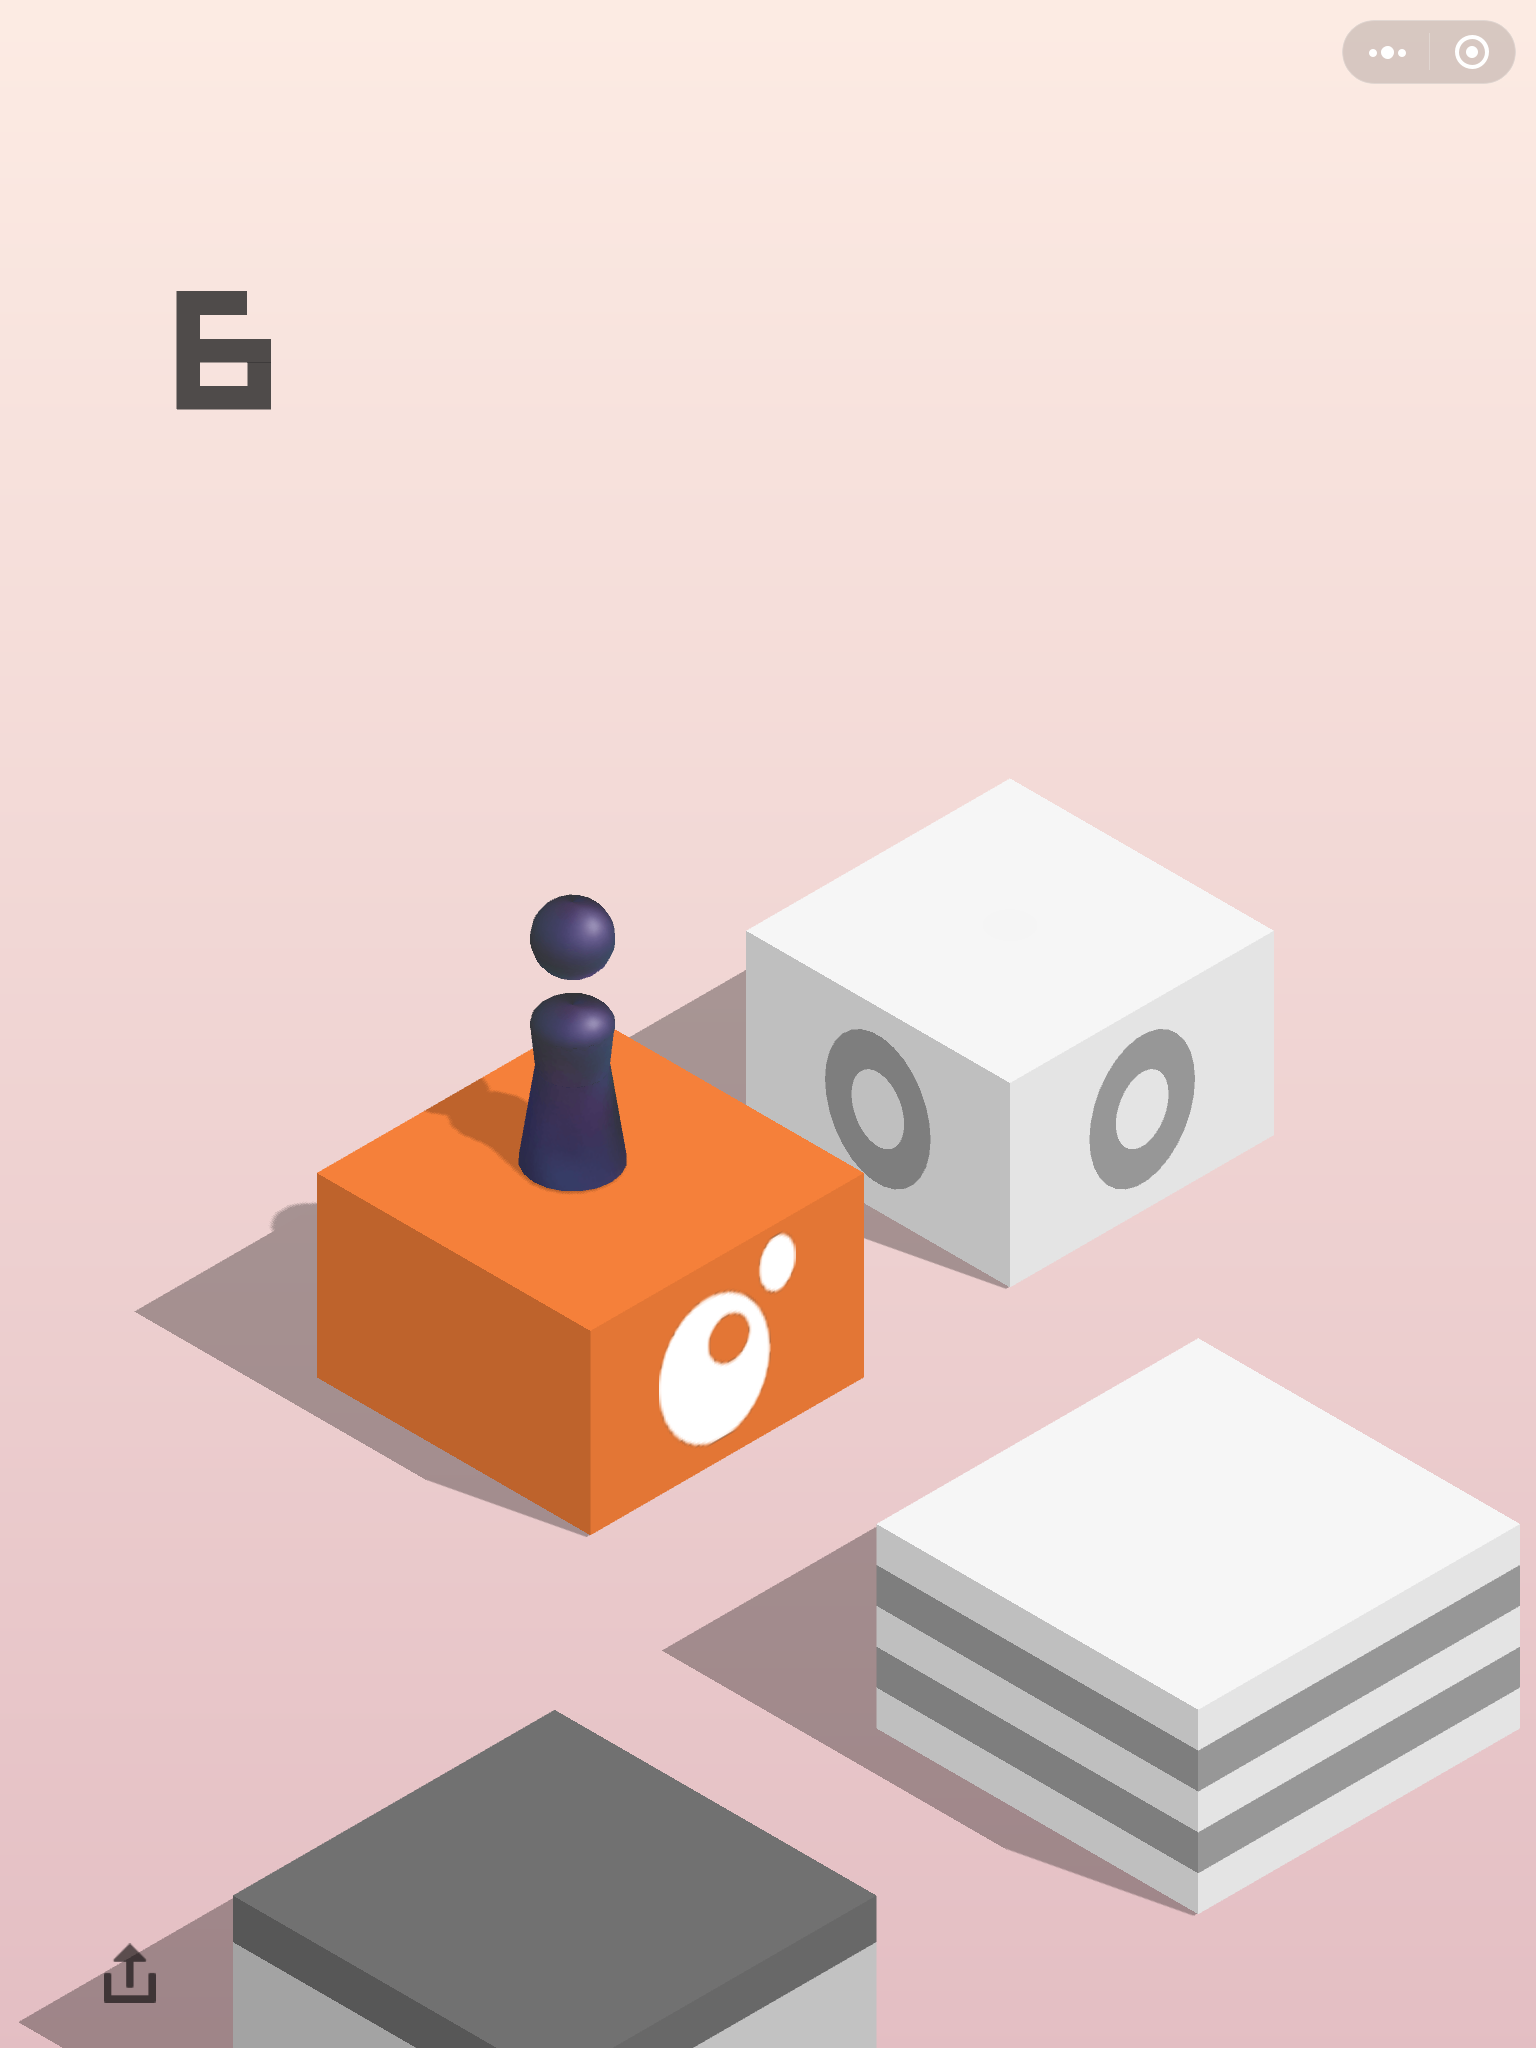f: (870, 1332, 1528, 1919), (310, 1019, 870, 1538), (737, 771, 1283, 1292), (226, 1703, 881, 2048)
r: (515, 892, 632, 1195)
